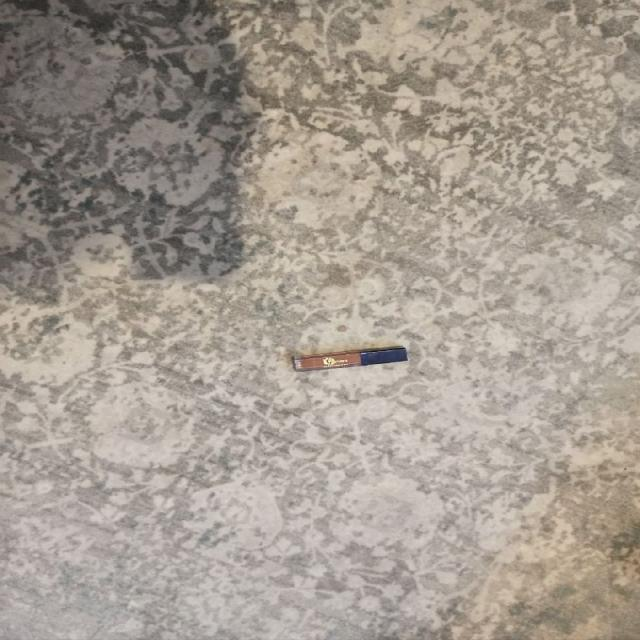lipstick: (291, 345, 408, 371)
